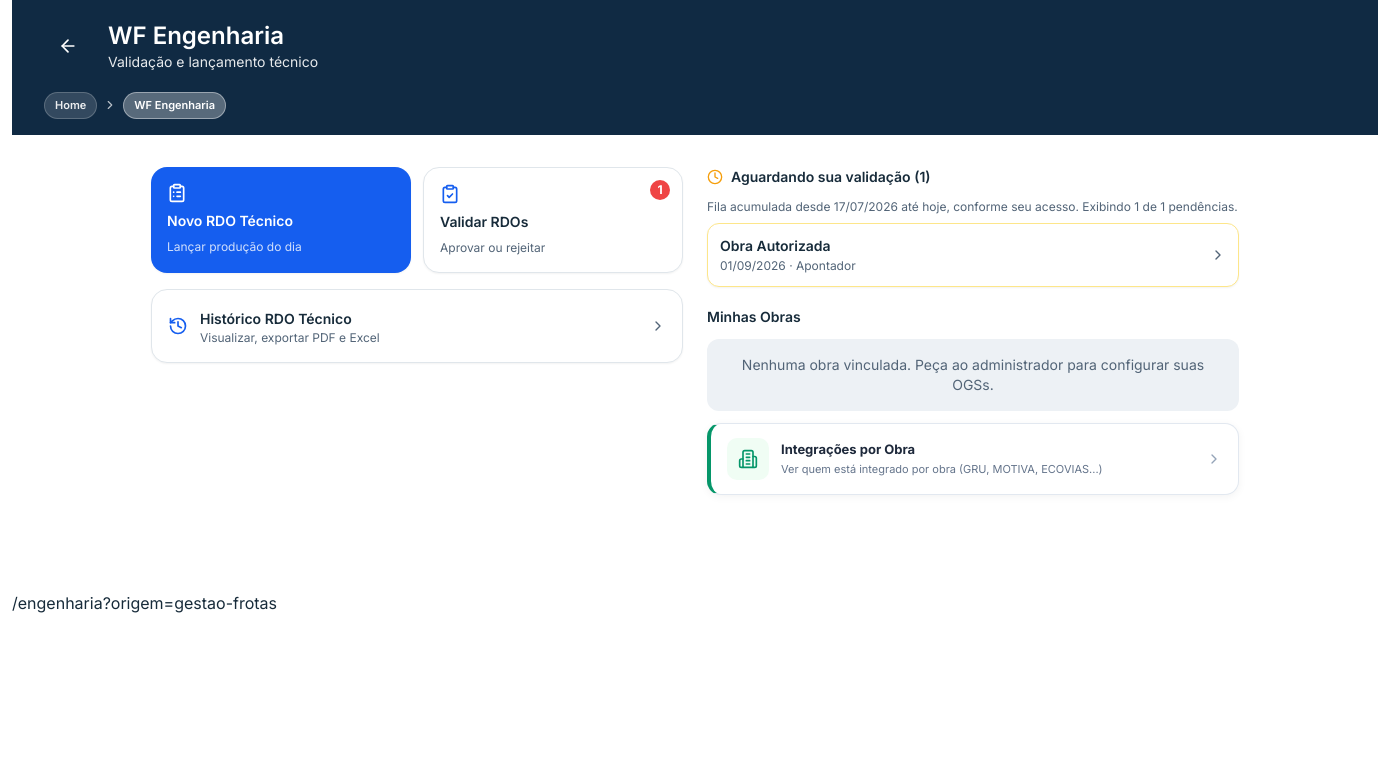
it: WF Engenharia desktop › preserva origem nos caminhos de RDO técnico e validação
The image size is (1378, 768).
Click the button "Novo RDO Técnico Lançar produção do dia" at (281,220), box [151,166,411,272]
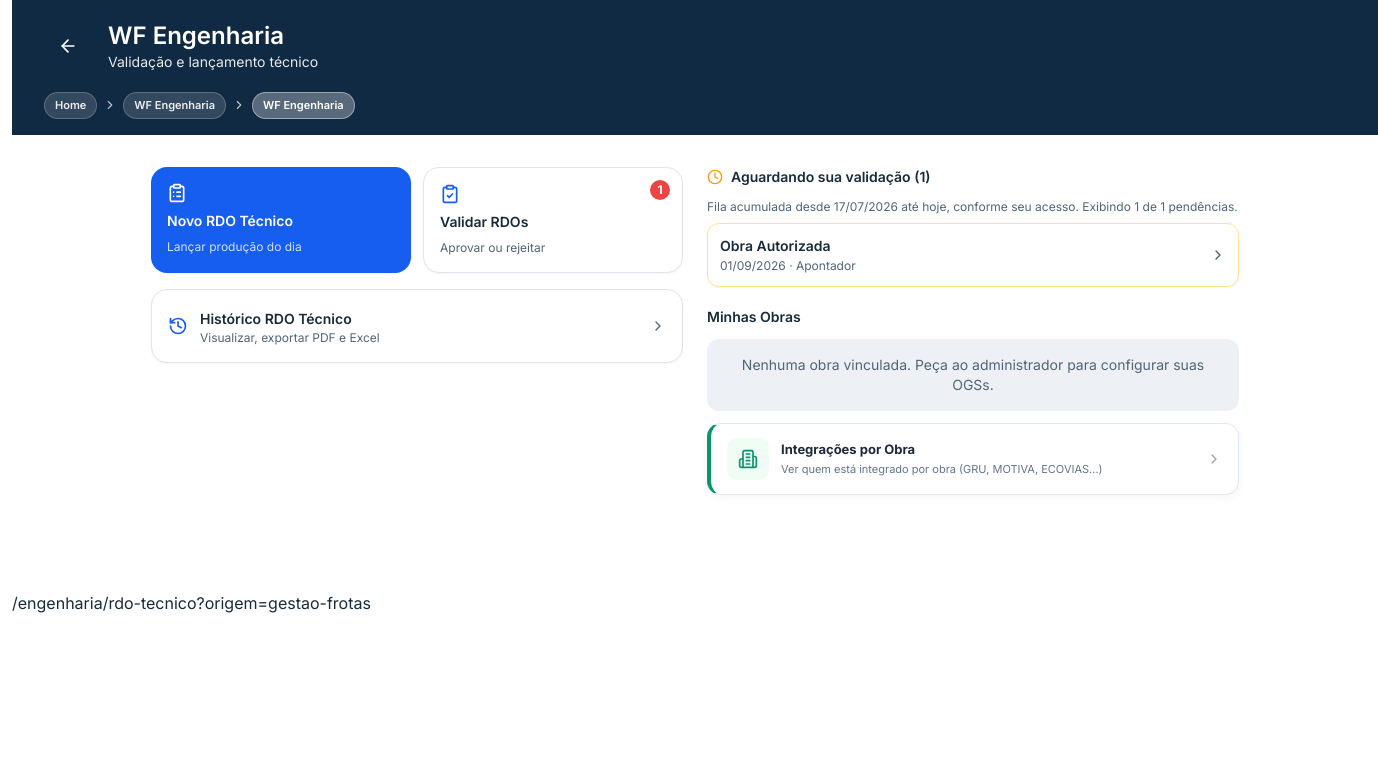
Now the text "rota" reads "/engenharia/rdo-tecnico?origem=gestao-frotas", box [12,592,371,612]
